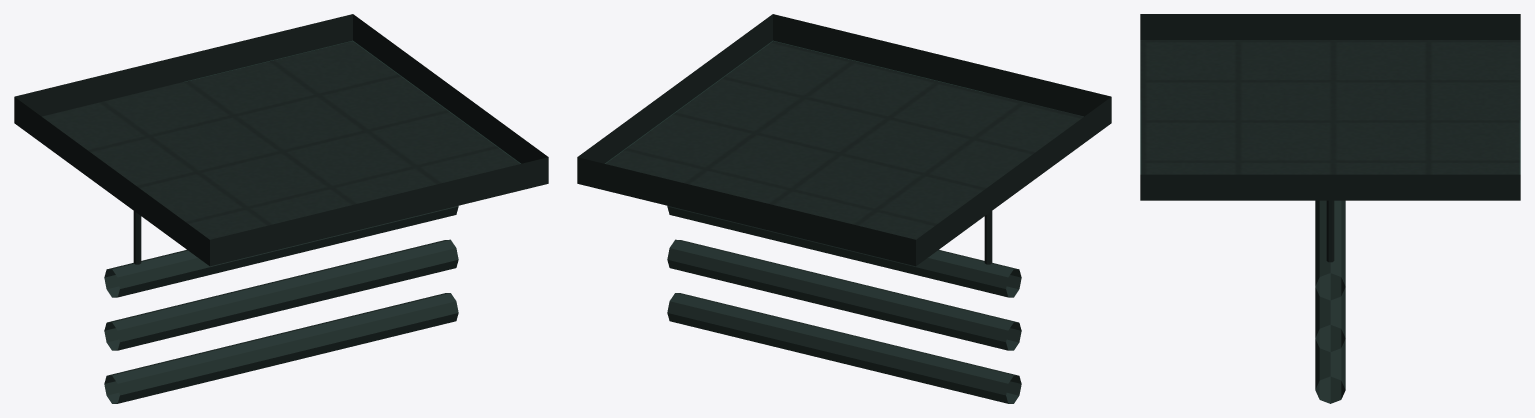
File: SM_Machine_Ceiling_Pipes_200x200.fbx
3 views of the same model, side by side, from view 1: azimuth 30°, elevation 25°; view 2: azimuth 150°, elevation 25°; view 3: azimuth 270°, elevation 25° (orthographic). The views are drawn at different scales.
Parts seen in each view (by area): view 1: SM_Machine_Ceiling_Pipes_200x200.001; view 2: SM_Machine_Ceiling_Pipes_200x200.001; view 3: SM_Machine_Ceiling_Pipes_200x200.001.
Boxes of the visible parts, x1=… form: SM_Machine_Ceiling_Pipes_200x200.001: x1=14, y1=14, x2=548, y2=403; SM_Machine_Ceiling_Pipes_200x200.001: x1=577, y1=14, x2=1111, y2=403; SM_Machine_Ceiling_Pipes_200x200.001: x1=1140, y1=14, x2=1520, y2=403.
Bounding box in the file's own units: 2 × 1.33 × 2.
